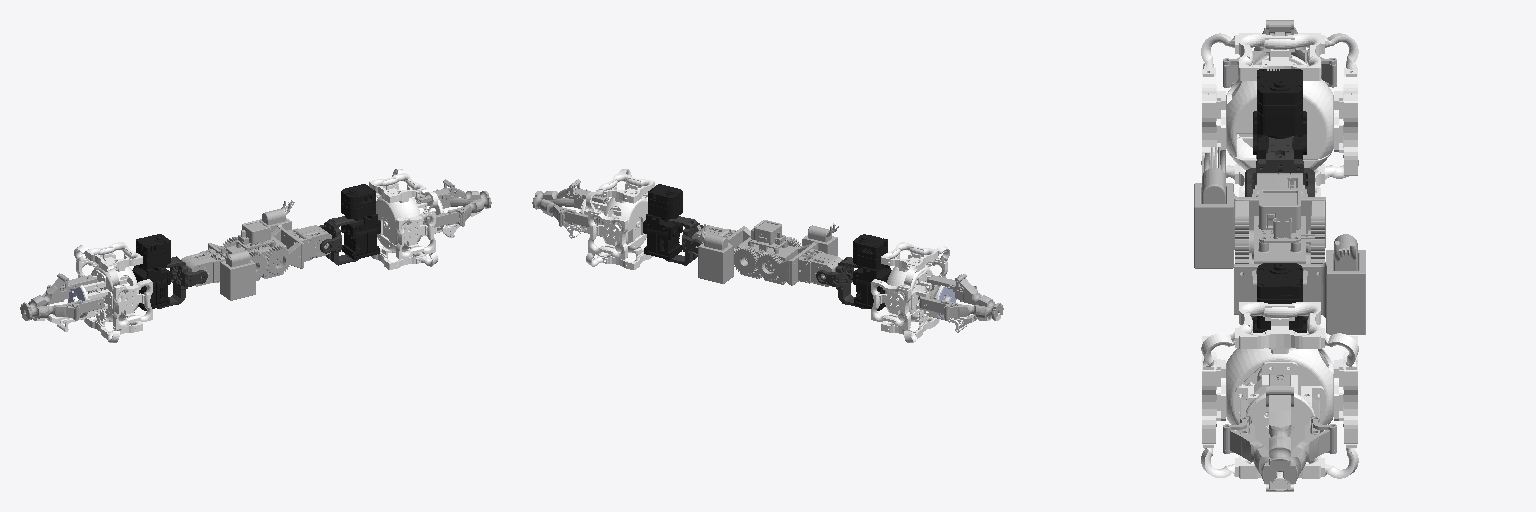
--- What the picture shows (computed from the rendered views, not written in the file) ---
Views: 3 orthographic renders of the robot side by side, from view 1: azimuth 30°, elevation 25°; view 2: azimuth 150°, elevation 25°; view 3: azimuth 270°, elevation 25°.
Model griphis_xacro_stl with 31 links and 30 joints (18 continuous, 12 fixed), rooted at base_link, posed every joint at zero.
Links seen in each view (by area): view 1: mid_pitch_2_link, mid_pitch_1_link, yaw_1_link, yaw_2_link, roll_1_link, roll_2_link, nailring2-cp2, nailring1-cp4, base_link, pitch_2_link, nail4_2_link, nailring2-cp1 (+6 smaller); view 2: mid_pitch_2_link, mid_pitch_1_link, yaw_1_link, yaw_2_link, roll_1_link, base_link, roll_2_link, nailring1-cp2, nailring2-cp4, pitch_2_link, nail2_2_link, nailring2-cp1 (+6 smaller); view 3: mid_pitch_2_link, roll_2_link, mid_pitch_1_link, roll_1_link, yaw_2_link, base_link, nailring1-cp1, nailring2-cp1, yaw_1_link, nail3_1_link, nailring2-cp4, pitch_2_link (+10 smaller).
Link boxes in pixels (<box>): mid_pitch_2_link: <box>181,237,267,300</box>; mid_pitch_1_link: <box>260,200,331,274</box>; yaw_1_link: <box>341,184,380,259</box>; yaw_2_link: <box>132,234,170,310</box>; roll_1_link: <box>376,169,437,266</box>; roll_2_link: <box>74,245,138,342</box>; nailring2-cp2: <box>113,279,152,328</box>; nailring1-cp4: <box>396,213,435,259</box>; base_link: <box>226,220,286,280</box>; pitch_2_link: <box>157,256,207,308</box>; nail4_2_link: <box>26,296,104,320</box>; nailring2-cp1: <box>86,242,142,271</box>; mid_pitch_2_link: <box>756,223,842,286</box>; mid_pitch_1_link: <box>692,224,758,283</box>; yaw_1_link: <box>643,184,682,259</box>; yaw_2_link: <box>853,234,891,310</box>; roll_1_link: <box>586,169,647,266</box>; base_link: <box>737,220,797,284</box>; roll_2_link: <box>885,245,949,342</box>; nailring1-cp2: <box>588,213,627,259</box>; nailring2-cp4: <box>871,279,910,328</box>; pitch_2_link: <box>816,257,867,308</box>; nail2_2_link: <box>919,294,997,320</box>; nailring2-cp1: <box>881,242,937,271</box>; mid_pitch_2_link: <box>1194,147,1325,268</box>; roll_2_link: <box>1201,33,1358,183</box>; mid_pitch_1_link: <box>1234,234,1365,334</box>; roll_1_link: <box>1201,328,1358,478</box>; yaw_2_link: <box>1253,69,1306,171</box>; base_link: <box>1254,189,1314,263</box>; nailring1-cp1: <box>1239,302,1320,353</box>; nailring2-cp1: <box>1239,33,1320,80</box>; yaw_1_link: <box>1253,263,1306,332</box>; nail3_1_link: <box>1266,374,1293,471</box>; nailring2-cp4: <box>1334,68,1357,175</box>; pitch_2_link: <box>1245,136,1314,196</box>.
Bounding box of the posed robot: 0.5796 × 0.096 × 0.0954 m (x, y, z).
Meshes: 31 distinct files referenced, 31 mesh visuals loaded (31 binary STL).

The robot description file, URDF, robot "griphis_xacro_stl":
<?xml version="1.0" encoding="utf-8"?>
<!-- This URDF was automatically created by SolidWorks to URDF Exporter! Originally created by Stephen Brawner ([email redacted]) 
     Commit Version:   Build Version: 1.6.9305.33219
     For more information, please see http://wiki.ros.org/sw_urdf_exporter -->
<robot
  name="griphis_xacro_stl">
  <link
    name="base_link">
    <inertial>
      <origin
        xyz="-0.00010264257406678 3.31727350517397E-05 -0.00495518296571391"
        rpy="0 0 0" />
      <mass
        value="0.0797462541060097" />
      <inertia
        ixx="8.57012114371153E-06"
        ixy="1.08293491537705E-08"
        ixz="-5.94275788505759E-09"
        iyy="1.05158543807875E-05"
        iyz="1.10583333432373E-08"
        izz="1.08869595154247E-05" />
    </inertial>
    <visual>
      <origin
        xyz="0 0 0"
        rpy="0 0 0" />
      <geometry>
        <mesh
          filename="package://griphis_xacro_stl/meshes/base_link.STL" />
      </geometry>
      <material
        name="">
        <color
          rgba="0.752941176470588 0.752941176470588 0.752941176470588 1" />
      </material>
    </visual>
    <collision>
      <origin
        xyz="0 0 0"
        rpy="0 0 0" />
      <geometry>
        <mesh
          filename="package://griphis_xacro_stl/meshes/base_link.STL" />
      </geometry>
    </collision>
  </link>
  <link
    name="mid_pitch_1_link">
    <inertial>
      <origin
        xyz="0.0327517154872403 0.0322634011493343 0.000309410745622088"
        rpy="0 0 0" />
      <mass
        value="0.0769353285466722" />
      <inertia
        ixx="1.72122749770761E-05"
        ixy="1.01496940835006E-08"
        ixz="-9.64331189423188E-08"
        iyy="1.36641198773196E-05"
        iyz="5.60814889063421E-07"
        izz="1.63211688368785E-05" />
    </inertial>
    <visual>
      <origin
        xyz="0 0 0"
        rpy="0 0 0" />
      <geometry>
        <mesh
          filename="package://griphis_xacro_stl/meshes/mid_pitch_1_link.STL" />
      </geometry>
      <material
        name="">
        <color
          rgba="0.752941176470588 0.752941176470588 0.752941176470588 1" />
      </material>
    </visual>
    <collision>
      <origin
        xyz="0 0 0"
        rpy="0 0 0" />
      <geometry>
        <mesh
          filename="package://griphis_xacro_stl/meshes/mid_pitch_1_link.STL" />
      </geometry>
    </collision>
  </link>
  <joint
    name="mid_pitch_1"
    type="continuous">
    <origin
      xyz="0.0148999999999995 -0.0176000000000318 -0.0109999999999849"
      rpy="0 0 0" />
    <parent
      link="base_link" />
    <child
      link="mid_pitch_1_link" />
    <axis
      xyz="0 1 0" />
    <limit
      effort="3"
      velocity="10" />
  </joint>
  <link
    name="pitch_1_link">
    <inertial>
      <origin
        xyz="0.0191893034316777 -0.017231596070573 -0.00342856576321433"
        rpy="0 0 0" />
      <mass
        value="0.0105178263834885" />
      <inertia
        ixx="5.84801171286377E-07"
        ixy="3.57321505354626E-09"
        ixz="8.8152444778668E-08"
        iyy="1.04603360596441E-06"
        iyz="-1.51990885783075E-13"
        izz="9.82964870358909E-07" />
    </inertial>
    <visual>
      <origin
        xyz="0 0 0"
        rpy="0 0 0" />
      <geometry>
        <mesh
          filename="package://griphis_xacro_stl/meshes/pitch_1_link.STL" />
      </geometry>
      <material
        name="">
        <color
          rgba="0.298039215686275 0.298039215686275 0.298039215686275 1" />
      </material>
    </visual>
    <collision>
      <origin
        xyz="0 0 0"
        rpy="0 0 0" />
      <geometry>
        <mesh
          filename="package://griphis_xacro_stl/meshes/pitch_1_link.STL" />
      </geometry>
    </collision>
  </link>
  <joint
    name="pitch_1"
    type="continuous">
    <origin
      xyz="0.0640000000000069 0.0350999999999983 0"
      rpy="0 0 0" />
    <parent
      link="mid_pitch_1_link" />
    <child
      link="pitch_1_link" />
    <axis
      xyz="0 1 0" />
    <limit
      effort="3"
      velocity="10" />
  </joint>
  <link
    name="yaw_1_link">
    <inertial>
      <origin
        xyz="0.00934924439107056 -1.17000596711048E-10 -0.0065657034112081"
        rpy="0 0 0" />
      <mass
        value="0.0544535701857151" />
      <inertia
        ixx="6.16082295678474E-06"
        ixy="-1.48642619322733E-08"
        ixz="3.66332313625793E-08"
        iyy="7.36782974228272E-06"
        iyz="-1.48634431569832E-08"
        izz="7.24406343523596E-06" />
    </inertial>
    <visual>
      <origin
        xyz="0 0 0"
        rpy="0 0 0" />
      <geometry>
        <mesh
          filename="package://griphis_xacro_stl/meshes/yaw_1_link.STL" />
      </geometry>
      <material
        name="">
        <color
          rgba="0.180392156862745 0.180392156862745 0.180392156862745 1" />
      </material>
    </visual>
    <collision>
      <origin
        xyz="0 0 0"
        rpy="0 0 0" />
      <geometry>
        <mesh
          filename="package://griphis_xacro_stl/meshes/yaw_1_link.STL" />
      </geometry>
    </collision>
  </link>
  <joint
    name="yaw_1"
    type="continuous">
    <origin
      xyz="0.0420000000000015 -0.0175000000000007 0.0174999999999981"
      rpy="0 0 0" />
    <parent
      link="pitch_1_link" />
    <child
      link="yaw_1_link" />
    <axis
      xyz="0 0 -1" />
    <limit
      effort="3"
      velocity="10" />
  </joint>
  <link
    name="roll_1_link">
    <inertial>
      <origin
        xyz="0.0304847934275313 -0.000533683595524997 -0.000138763582684304"
        rpy="0 0 0" />
      <mass
        value="0.0617238803473503" />
      <inertia
        ixx="1.72112591146286E-05"
        ixy="-2.34655399562005E-07"
        ixz="1.72186999812855E-07"
        iyy="1.09105230206178E-05"
        iyz="3.90599560040266E-08"
        izz="1.62402505711448E-05" />
    </inertial>
    <visual>
      <origin
        xyz="0 0 0"
        rpy="0 0 0" />
      <geometry>
        <mesh
          filename="package://griphis_xacro_stl/meshes/roll_1_link.STL" />
      </geometry>
      <material
        name="">
        <color
          rgba="1 1 1 1" />
      </material>
    </visual>
    <collision>
      <origin
        xyz="0 0 0"
        rpy="0 0 0" />
      <geometry>
        <mesh
          filename="package://griphis_xacro_stl/meshes/roll_1_link.STL" />
      </geometry>
    </collision>
  </link>
  <joint
    name="roll_1"
    type="continuous">
    <origin
      xyz="0.0279999999999981 0 -0.0175000000000002"
      rpy="0 0 0" />
    <parent
      link="yaw_1_link" />
    <child
      link="roll_1_link" />
    <axis
      xyz="-1 0 0" />
    <limit
      effort="3"
      velocity="10" />
  </joint>
  <link
    name="worm_1_link">
    <inertial>
      <origin
        xyz="0.00680389923417661 1.29536242400655E-05 5.52986221441856E-05"
        rpy="0 0 0" />
      <mass
        value="0.00387257618784269" />
      <inertia
        ixx="2.06264558567859E-07"
        ixy="1.13917098659222E-09"
        ixz="-8.28881114232565E-10"
        iyy="1.7113732321225E-07"
        iyz="4.18404893657738E-11"
        izz="1.71297030362022E-07" />
    </inertial>
    <visual>
      <origin
        xyz="0 0 0"
        rpy="0 0 0" />
      <geometry>
        <mesh
          filename="package://griphis_xacro_stl/meshes/worm_1_link.STL" />
      </geometry>
      <material
        name="">
        <color
          rgba="0.752941176470588 0.752941176470588 0.752941176470588 1" />
      </material>
    </visual>
    <collision>
      <origin
        xyz="0 0 0"
        rpy="0 0 0" />
      <geometry>
        <mesh
          filename="package://griphis_xacro_stl/meshes/worm_1_link.STL" />
      </geometry>
    </collision>
  </link>
  <joint
    name="worm_rotate_1"
    type="continuous">
    <origin
      xyz="0.0469999999999999 0 0"
      rpy="0 0 0" />
    <parent
      link="roll_1_link" />
    <child
      link="worm_1_link" />
    <axis
      xyz="1 0 0" />
    <limit
      effort="15"
      velocity="10" />
  </joint>
  <link
    name="nail1_1_link">
    <inertial>
      <origin
        xyz="0.0375115559402243 -4.52381021421033E-05 0.000927613439051046"
        rpy="0 0 0" />
      <mass
        value="0.00785451508753953" />
      <inertia
        ixx="3.26792929870295E-07"
        ixy="2.23311778369799E-10"
        ixz="3.04391588566406E-07"
        iyy="1.76174668735888E-06"
        iyz="-8.7203716693621E-12"
        izz="1.60467609944965E-06" />
    </inertial>
    <visual>
      <origin
        xyz="0 0 0"
        rpy="0 0 0" />
      <geometry>
        <mesh
          filename="package://griphis_xacro_stl/meshes/nail1_1_link.STL" />
      </geometry>
      <material
        name="">
        <color
          rgba="1 1 1 1" />
      </material>
    </visual>
    <collision>
      <origin
        xyz="0 0 0"
        rpy="0 0 0" />
      <geometry>
        <mesh
          filename="package://griphis_xacro_stl/meshes/nail1_1_link.STL" />
      </geometry>
    </collision>
  </link>
  <joint
    name="nail1_rotate_1"
    type="continuous">
    <origin
      xyz="0.0569999999999999 0 -0.0149999999999954"
      rpy="3.14159265358974 0 0" />
    <parent
      link="roll_1_link" />
    <child
      link="nail1_1_link" />
    <axis
      xyz="0 -1 0" />
    <mimic
      joint="worm_rotate_1"
      multiplier="0.091"
      offset="0" />
  </joint>
  <link
    name="nail2_1_link">
    <inertial>
      <origin
        xyz="0.0375922338704431 -0.000920668174592305 -5.01249966510589E-05"
        rpy="0 0 0" />
      <mass
        value="0.00783920613274618" />
      <inertia
        ixx="3.26764420600123E-07"
        ixy="-3.04083796030301E-07"
        ixz="3.01596352148099E-10"
        iyy="1.60307023285989E-06"
        iyz="-3.50228545349602E-11"
        izz="1.7600802033745E-06" />
    </inertial>
    <visual>
      <origin
        xyz="0 0 0"
        rpy="0 0 0" />
      <geometry>
        <mesh
          filename="package://griphis_xacro_stl/meshes/nail2_1_link.STL" />
      </geometry>
      <material
        name="">
        <color
          rgba="0.752941176470588 0.752941176470588 0.752941176470588 1" />
      </material>
    </visual>
    <collision>
      <origin
        xyz="0 0 0"
        rpy="0 0 0" />
      <geometry>
        <mesh
          filename="package://griphis_xacro_stl/meshes/nail2_1_link.STL" />
      </geometry>
    </collision>
  </link>
  <joint
    name="nail2_rotate_1"
    type="continuous">
    <origin
      xyz="0.0569999999999999 -0.0150000000000087 0"
      rpy="0 0 0" />
    <parent
      link="roll_1_link" />
    <child
      link="nail2_1_link" />
    <axis
      xyz="0 0 -1" />
    <mimic
      joint="worm_rotate_1"
      multiplier="0.091"
      offset="0" />
  </joint>
  <link
    name="nail3_1_link">
    <inertial>
      <origin
        xyz="0.0376633576375596 -4.50239708446043E-05 0.000912382199221681"
        rpy="0 0 0" />
      <mass
        value="0.00782164323980883" />
      <inertia
        ixx="3.26387568167113E-07"
        ixy="1.94469452026803E-10"
        ixz="3.03929104031752E-07"
        iyy="1.75640452707706E-06"
        iyz="-1.77166863072923E-11"
        izz="1.59916689354216E-06" />
    </inertial>
    <visual>
      <origin
        xyz="0 0 0"
        rpy="0 0 0" />
      <geometry>
        <mesh
          filename="package://griphis_xacro_stl/meshes/nail3_1_link.STL" />
      </geometry>
      <material
        name="">
        <color
          rgba="0.752941176470588 0.752941176470588 0.752941176470588 1" />
      </material>
    </visual>
    <collision>
      <origin
        xyz="0 0 0"
        rpy="0 0 0" />
      <geometry>
        <mesh
          filename="package://griphis_xacro_stl/meshes/nail3_1_link.STL" />
      </geometry>
    </collision>
  </link>
  <joint
    name="nail3_rotate_1"
    type="continuous">
    <origin
      xyz="0.0569999999999998 0 0.0150000000000046"
      rpy="0 0 0" />
    <parent
      link="roll_1_link" />
    <child
      link="nail3_1_link" />
    <axis
      xyz="0 -1 0" />
    <mimic
      joint="worm_rotate_1"
      multiplier="0.091"
      offset="0" />
  </joint>
  <link
    name="nail4_1_link">
    <inertial>
      <origin
        xyz="0.0376199045292883 0.000916237603659741 4.27065705779009E-05"
        rpy="0 0 0" />
      <mass
        value="0.00783130292561273" />
      <inertia
        ixx="3.26490723468266E-07"
        ixy="3.0398859313737E-07"
        ixz="-4.37077734142467E-10"
        iyy="1.60061195688429E-06"
        iyz="2.94387193060157E-11"
        izz="1.75778452318195E-06" />
    </inertial>
    <visual>
      <origin
        xyz="0 0 0"
        rpy="0 0 0" />
      <geometry>
        <mesh
          filename="package://griphis_xacro_stl/meshes/nail4_1_link.STL" />
      </geometry>
      <material
        name="">
        <color
          rgba="0.752941176470588 0.752941176470588 0.752941176470588 1" />
      </material>
    </visual>
    <collision>
      <origin
        xyz="0 0 0"
        rpy="0 0 0" />
      <geometry>
        <mesh
          filename="package://griphis_xacro_stl/meshes/nail4_1_link.STL" />
      </geometry>
    </collision>
  </link>
  <joint
    name="nail4_rotate_1"
    type="continuous">
    <origin
      xyz="0.0569999999999999 0.0149999999999913 0"
      rpy="0 0 0" />
    <parent
      link="roll_1_link" />
    <child
      link="nail4_1_link" />
    <axis
      xyz="0 0 1" />
    <mimic
      joint="worm_rotate_1"
      multiplier="0.091"
      offset="0" />
  </joint>
  <link
    name="nail-cp1">
    <inertial>
      <origin
        xyz="-2.058274506931E-05 -0.000405813357968389 -0.0658092329631552"
        rpy="0 0 0" />
      <mass
        value="0.0011585387013778" />
      <inertia
        ixx="1.05682260080874E-07"
        ixy="-1.5764583148915E-09"
        ixz="-7.53303890952621E-11"
        iyy="1.05682260080874E-07"
        iyz="7.53303890952626E-11"
        izz="2.1081276337663E-07" />
    </inertial>
    <visual>
      <origin
        xyz="0 0 0"
        rpy="0 0 0" />
      <geometry>
        <mesh
          filename="package://griphis_xacro_stl/meshes/nail-cp1.STL" />
      </geometry>
      <material
        name="">
        <color
          rgba="1 1 1 1" />
      </material>
    </visual>
    <collision>
      <origin
        xyz="0 0 0"
        rpy="0 0 0" />
      <geometry>
        <mesh
          filename="package://griphis_xacro_stl/meshes/nail-cp1.STL" />
      </geometry>
    </collision>
  </link>
  <joint
    name="nail-cp1"
    type="fixed">
    <origin
      xyz="0.1417 -0.000318198051508053 -0.000108198051533566"
      rpy="-1.57079632679489 0 -1.5707963267949" />
    <parent
      link="roll_1_link" />
    <child
      link="nail-cp1" />
    <axis
      xyz="0 0 0" />
  </joint>
  <link
    name="gripper-cp1">
    <inertial>
      <origin
        xyz="-0.000249014516100668 -0.00102239026541428 -0.0133818116212472"
        rpy="0 0 0" />
      <mass
        value="0.0105278029927928" />
      <inertia
        ixx="2.49426973639437E-06"
        ixy="-4.53009756265879E-08"
        ixz="6.75736959711176E-08"
        iyy="2.70040122944883E-06"
        iyz="-2.88247256637324E-07"
        izz="2.67368335360225E-06" />
    </inertial>
    <visual>
      <origin
        xyz="0 0 0"
        rpy="0 0 0" />
      <geometry>
        <mesh
          filename="package://griphis_xacro_stl/meshes/gripper-cp1.STL" />
      </geometry>
      <material
        name="">
        <color
          rgba="1 1 1 1" />
      </material>
    </visual>
    <collision>
      <origin
        xyz="0 0 0"
        rpy="0 0 0" />
      <geometry>
        <mesh
          filename="package://griphis_xacro_stl/meshes/gripper-cp1.STL" />
      </geometry>
    </collision>
  </link>
  <joint
    name="gripper-cp1"
    type="fixed">
    <origin
      xyz="0.0766999999999999 0.000318198051526754 -0.000318198051528329"
      rpy="-1.57079632679489 0 -1.5707963267949" />
    <parent
      link="roll_1_link" />
    <child
      link="gripper-cp1" />
    <axis
      xyz="0 0 0" />
  </joint>
  <link
    name="nailring1-cp1">
    <inertial>
      <origin
        xyz="0.000495209639942942 -2.15213012098869E-07 -0.00500225533856013"
        rpy="0 0 0" />
      <mass
        value="0.00888435164177016" />
      <inertia
        ixx="1.85848970375133E-06"
        ixy="4.08320407087235E-11"
        ixz="9.14133574374128E-10"
        iyy="1.88948158451332E-06"
        iyz="-1.8157617423749E-12"
        izz="3.47494887160992E-06" />
    </inertial>
    <visual>
      <origin
        xyz="0 0 0"
        rpy="0 0 0" />
      <geometry>
        <mesh
          filename="package://griphis_xacro_stl/meshes/nailring1-cp1.STL" />
      </geometry>
      <material
        name="">
        <color
          rgba="1 1 1 1" />
      </material>
    </visual>
    <collision>
      <origin
        xyz="0 0 0"
        rpy="0 0 0" />
      <geometry>
        <mesh
          filename="package://griphis_xacro_stl/meshes/nailring1-cp1.STL" />
      </geometry>
    </collision>
  </link>
  <joint
    name="nailring1-cp1"
    type="fixed">
    <origin
      xyz="0.0285999465033277 0 0.0330000000000045"
      rpy="3.14159265358974 0 0" />
    <parent
      link="roll_1_link" />
    <child
      link="nailring1-cp1" />
    <axis
      xyz="0 0 0" />
  </joint>
  <link
    name="nailring1-cp2">
    <inertial>
      <origin
        xyz="0.000495209639943192 -2.15213011856008E-07 -0.00500225533855998"
        rpy="0 0 0" />
      <mass
        value="0.00888435164177017" />
      <inertia
        ixx="1.85848970375133E-06"
        ixy="4.08320407083519E-11"
        ixz="9.1413357437371E-10"
        iyy="1.88948158451332E-06"
        iyz="-1.81576174254404E-12"
        izz="3.47494887160992E-06" />
    </inertial>
    <visual>
      <origin
        xyz="0 0 0"
        rpy="0 0 0" />
      <geometry>
        <mesh
          filename="package://griphis_xacro_stl/meshes/nailring1-cp2.STL" />
      </geometry>
      <material
        name="">
        <color
          rgba="1 1 1 1" />
      </material>
    </visual>
    <collision>
      <origin
        xyz="0 0 0"
        rpy="0 0 0" />
      <geometry>
        <mesh
          filename="package://griphis_xacro_stl/meshes/nailring1-cp2.STL" />
      </geometry>
    </collision>
  </link>
  <joint
    name="nailring1-cp2"
    type="fixed">
    <origin
      xyz="0.0285999465033275 0.0329999999999915 0"
      rpy="1.57079632679484 0 0" />
    <parent
      link="roll_1_link" />
    <child
      link="nailring1-cp2" />
    <axis
      xyz="0 0 0" />
  </joint>
  <link
    name="nailring1-cp3">
    <inertial>
      <origin
        xyz="-0.000495209639943185 2.1521301184213E-07 -0.00500225533856018"
        rpy="0 0 0" />
      <mass
        value="0.00888435164177015" />
      <inertia
        ixx="1.85848970375133E-06"
        ixy="4.08320407089207E-11"
        ixz="-9.14133574373382E-10"
        iyy="1.88948158451332E-06"
        iyz="1.81576174213503E-12"
        izz="3.47494887160991E-06" />
    </inertial>
    <visual>
      <origin
        xyz="0 0 0"
        rpy="0 0 0" />
      <geometry>
        <mesh
          filename="package://griphis_xacro_stl/meshes/nailring1-cp3.STL" />
      </geometry>
      <material
        name="">
        <color
          rgba="1 1 1 1" />
      </material>
    </visual>
    <collision>
      <origin
        xyz="0 0 0"
        rpy="0 0 0" />
      <geometry>
        <mesh
          filename="package://griphis_xacro_stl/meshes/nailring1-cp3.STL" />
      </geometry>
    </collision>
  </link>
  <joint
    name="nailring1-cp3"
    type="fixed">
    <origin
      xyz="0.0284000534966723 0 -0.0329999999999963"
      rpy="0 0 0" />
    <parent
      link="roll_1_link" />
    <child
      link="nailring1-cp3" />
    <axis
      xyz="0 0 0" />
  </joint>
  <link
    name="nailring1-cp4">
    <inertial>
      <origin
        xyz="-0.000495209639943033 2.15213012022542E-07 -0.00500225533856014"
        rpy="0 0 0" />
      <mass
        value="0.00888435164177017" />
      <inertia
        ixx="1.85848970375133E-06"
        ixy="4.08320407090649E-11"
        ixz="-9.14133574373576E-10"
        iyy="1.88948158451332E-06"
        iyz="1.81576174274984E-12"
        izz="3.47494887160992E-06" />
    </inertial>
    <visual>
      <origin
        xyz="0 0 0"
        rpy="0 0 0" />
      <geometry>
        <mesh
          filename="package://griphis_xacro_stl/meshes/nailring1-cp4.STL" />
      </geometry>
      <material
        name="">
        <color
          rgba="1 1 1 1" />
      </material>
    </visual>
    <collision>
      <origin
        xyz="0 0 0"
        rpy="0 0 0" />
      <geometry>
        <mesh
          filename="package://griphis_xacro_stl/meshes/nailring1-cp4.STL" />
      </geometry>
    </collision>
  </link>
  <joint
    name="nailring1-cp4"
    type="fixed">
    <origin
      xyz="0.0286000534966721 -0.0330000000000086 0"
      rpy="-1.57079632679496 0 0" />
    <parent
      link="roll_1_link" />
    <child
      link="nailring1-cp4" />
    <axis
      xyz="0 0 0" />
  </joint>
  <link
    name="mid_pitch_2_link">
    <inertial>
      <origin
        xyz="-0.0327473641033502 -0.0322605669359661 0.000309352298986196"
        rpy="0 0 0" />
      <mass
        value="0.0769502016363242" />
      <inertia
        ixx="1.72130959551283E-05"
        ixy="1.01485711646082E-08"
        ixz="9.64338520342348E-08"
        iyy="1.36643051799986E-05"
        iyz="-5.60812725052765E-07"
        izz="1.63206675803235E-05" />
    </inertial>
    <visual>
      <origin
        xyz="0 0 0"
        rpy="0 0 0" />
      <geometry>
        <mesh
          filename="package://griphis_xacro_stl/meshes/mid_pitch_2_link.STL" />
      </geometry>
      <material
        name="">
        <color
          rgba="0.752941176470588 0.752941176470588 0.752941176470588 1" />
      </material>
    </visual>
    <collision>
      <origin
        xyz="0 0 0"
        rpy="0 0 0" />
      <geometry>
        <mesh
          filename="package://griphis_xacro_stl/meshes/mid_pitch_2_link.STL" />
      </geometry>
    </collision>
  </link>
  <joint
    name="mid_pitch_2"
    type="continuous">
    <origin
      xyz="-0.0150000000000005 0.0175999999999683 -0.0107899999999814"
      rpy="0 0 0" />
    <parent
      link="base_link" />
    <child
      link="mid_pitch_2_link" />
    <axis
      xyz="0 -1 0" />
    <limit
      effort="3"
      velocity="10" />
    <mimic
      joint="mid_pitch_1"
      multiplier="1"
      offset="0" />
  </joint>
  <link
    name="pitch_2_link">
    <inertial>
      <origin
        xyz="-0.0191893034316743 0.0172315960705706 -0.00342856576323701"
        rpy="0 0 0" />
      <mass
        value="0.0105178263834885" />
      <inertia
        ixx="5.84801171286379E-07"
        ixy="3.57321505353334E-09"
        ixz="-8.81524447786701E-08"
        iyy="1.04603360596441E-06"
        iyz="1.51990880905164E-13"
        izz="9.82964870358905E-07" />
    </inertial>
    <visual>
      <origin
        xyz="0 0 0"
        rpy="0 0 0" />
      <geometry>
        <mesh
          filename="package://griphis_xacro_stl/meshes/pitch_2_link.STL" />
      </geometry>
      <material
        name="">
        <color
          rgba="0.298039215686275 0.298039215686275 0.298039215686275 1" />
      </material>
    </visual>
    <collision>
      <origin
        xyz="0 0 0"
        rpy="0 0 0" />
      <geometry>
        <mesh
          filename="package://griphis_xacro_stl/meshes/pitch_2_link.STL" />
      </geometry>
    </collision>
  </link>
  <joint
    name="pitch_2"
    type="continuous">
    <origin
      xyz="-0.0640000000000067 -0.0350999999999972 0"
      rpy="0 0 0" />
    <parent
      link="mid_pitch_2_link" />
    <child
      link="pitch_2_link" />
    <axis
      xyz="0 1 0" />
    <limit
      effort="3"
      velocity="10" />
  </joint>
  <link
    name="yaw_2_link">
    <inertial>
      <origin
        xyz="-0.00934924449476787 -1.20738749553873E-09 -0.00656570463247875"
        rpy="0 0 0" />
      <mass
        value="0.0544536529144548" />
      <inertia
        ixx="6.1608306877813E-06"
        ixy="-1.48630786812854E-08"
        ixz="-3.66333645918454E-08"
        iyy="7.36783210634451E-06"
        iyz="1.48635489875795E-08"
        izz="7.24407314817233E-06" />
    </inertial>
    <visual>
      <origin
        xyz="0 0 0"
        rpy="0 0 0" />
      <geometry>
        <mesh
          filename="package://griphis_xacro_stl/meshes/yaw_2_link.STL" />
      </geometry>
      <material
        name="">
        <color
          rgba="0.180392156862745 0.180392156862745 0.180392156862745 1" />
      </material>
    </visual>
    <collision>
      <origin
        xyz="0 0 0"
        rpy="0 0 0" />
      <geometry>
        <mesh
          filename="package://griphis_xacro_stl/meshes/yaw_2_link.STL" />
      </geometry>
    </collision>
  </link>
  <joint
    name="yaw_2"
    type="continuous">
    <origin
      xyz="-0.0419999999999942 0.0175000000000631 0.0174999999999867"
      rpy="0 0 0" />
    <parent
      link="pitch_2_link" />
    <child
      link="yaw_2_link" />
    <axis
      xyz="0 0 -1" />
    <limit
      effort="3"
      velocity="10" />
  </joint>
  <link
    name="roll_2_link">
    <inertial>
      <origin
        xyz="-0.0304847934275298 0.000533683595516123 -0.000138763582688578"
        rpy="0 0 0" />
      <mass
        value="0.0617238803473503" />
      <inertia
        ixx="1.72112591146286E-05"
        ixy="-2.34655399562003E-07"
        ixz="-1.72186999812873E-07"
        iyy="1.09105230206178E-05"
        iyz="-3.90599560037894E-08"
        izz="1.62402505711448E-05" />
    </inertial>
    <visual>
      <origin
        xyz="0 0 0"
        rpy="0 0 0" />
      <geometry>
        <mesh
          filename="package://griphis_xacro_stl/meshes/roll_2_link.STL" />
      </geometry>
      <material
        name="">
        <color
          rgba="1 1 1 1" />
      </material>
    </visual>
    <collision>
      <origin
        xyz="0 0 0"
        rpy="0 0 0" />
      <geometry>
        <mesh
          filename="package://griphis_xacro_stl/meshes/roll_2_link.STL" />
      </geometry>
    </collision>
  </link>
  <joint
    name="roll_2"
    type="continuous">
    <origin
      xyz="-0.0280000000000042 0 -0.0175000000000007"
      rpy="0 0 0" />
    <parent
      link="yaw_2_link" />
    <child
      link="roll_2_link" />
    <axis
      xyz="-1 0 0" />
    <limit
      effort="3"
      velocity="10" />
  </joint>
  <link
    name="worm_2_link">
    <inertial>
      <origin
        xyz="-0.00680389920380498 5.66707617536341E-05 3.76180533663562E-06"
        rpy="0 0 0" />
      <mass
        value="0.00387257616321651" />
      <inertia
        ixx="2.0626455720602E-07"
        ixy="6.3200237698076E-10"
        ixz="-1.25909856906162E-09"
        iyy="1.713062458146E-07"
        iyz="1.39152999506885E-11"
        izz="1.71128105557195E-07" />
    </inertial>
    <visual>
      <origin
        xyz="0 0 0"
        rpy="0 0 0" />
      <geometry>
        <mesh
          filename="package://griphis_xacro_stl/meshes/worm_2_link.STL" />
      </geometry>
      <material
        name="">
        <color
          rgba="0.752941176470588 0.752941176470588 0.752941176470588 1" />
      </material>
    </visual>
    <collision>
      <origin
        xyz="0 0 0"
        rpy="0 0 0" />
      <geometry>
        <mesh
          filename="package://griphis_xacro_stl/meshes/worm_2_link.STL" />
      </geometry>
    </collision>
  </link>
  <joint
    name="worm_rotate_2"
    type="continuous">
    <origin
      xyz="-0.0470000000000015 0 0"
      rpy="0 0 0" />
    <parent
      link="roll_2_link" />
    <child
      link="worm_2_link" />
    <axis
      xyz="0.737216674660088 0 0.675656402769279" />
    <limit
      effort="15"
      velocity="10" />
  </joint>
  <link
    name="nail1_2_link">
    <inertial>
      <origin
        xyz="-0.0375115559402153 0.000154761897861344 -0.000927613439127735"
        rpy="0 0 0" />
      <mass
        value="0.00785451508753956" />
      <inertia
        ixx="3.26792929870324E-07"
        ixy="-2.23311778394515E-10"
        ixz="3.04391588566463E-07"
        iyy="1.76174668735889E-06"
        iyz="8.72037168507631E-12"
        izz="1.60467609944963E-06" />
    </inertial>
    <visual>
      <origin
        xyz="0 0 0"
        rpy="0 0 0" />
      <geometry>
        <mesh
          filename="package://griphis_xacro_stl/meshes/nail1_2_link.STL" />
      </geometry>
      <material
        name="">
        <color
          rgba="1 1 1 1" />
      </material>
    </visual>
    <collision>
      <origin
        xyz="0 0 0"
        rpy="0 0 0" />
      <geometry>
        <mesh
          filename="package://griphis_xacro_stl/meshes/nail1_2_link.STL" />
      </geometry>
    </collision>
  </link>
  <joint
    name="nail1_rotate_2"
    type="continuous">
    <origin
      xyz="-0.0570000000000014 0 -0.0149999999999872"
      rpy="0 0 0" />
    <parent
      link="roll_2_link" />
    <child
      link="nail1_2_link" />
    <axis
      xyz="0 -1 0" />
    <mimic
      joint="worm_rotate_2"
      multiplier="0.091"
      offset="0" />
  </joint>
  <link
    name="nail2_2_link">
    <inertial>
      <origin
        xyz="-0.0375922338704413 0.000920668174601659 0.000149875003347476"
        rpy="0 0 0" />
      <mass
        value="0.00783920613274653" />
      <inertia
        ixx="3.26764420600132E-07"
        ixy="-3.0408379603033E-07"
        ixz="-3.01596352109658E-10"
        iyy="1.60307023286001E-06"
        iyz="3.50228545423785E-11"
        izz="1.76008020337463E-06" />
    </inertial>
    <visual>
      <origin
        xyz="0 0 0"
        rpy="0 0 0" />
      <geometry>
        <mesh
          filename="package://griphis_xacro_stl/meshes/nail2_2_link.STL" />
      </geometry>
      <material
        name="">
        <color
          rgba="0.752941176470588 0.752941176470588 0.752941176470588 1" />
      </material>
    </visual>
    <collision>
      <origin
        xyz="0 0 0"
        rpy="0 0 0" />
      <geometry>
        <mesh
          filename="package://griphis_xacro_stl/meshes/nail2_2_link.STL" />
      </geometry>
    </collision>
  </link>
  <joint
    name="nail2_rotate_2"
    type="continuous">
    <origin
      xyz="-0.0570000000000009 0.015 0"
      rpy="0 0 0" />
    <parent
      link="roll_2_link" />
    <child
      link="nail2_2_link" />
    <axis
      xyz="0 0 -1" />
    <mimic
      joint="worm_rotate_2"
      multiplier="0.091"
      offset="0" />
  </joint>
  <link
    name="nail3_2_link">
    <inertial>
      <origin
        xyz="-0.0376633576375554 4.50239708458949E-05 0.000912382199144402"
        rpy="0 0 0" />
      <mass
        value="0.00782164323980893" />
      <inertia
        ixx="3.26387568167086E-07"
        ixy="1.94469452048084E-10"
        ixz="-3.03929104031706E-07"
        iyy="1.75640452707709E-06"
        iyz="1.77166863189614E-11"
        izz="1.59916689354222E-06" />
    </inertial>
    <visual>
      <origin
        xyz="0 0 0"
        rpy="0 0 0" />
      <geometry>
        <mesh
          filename="package://griphis_xacro_stl/meshes/nail3_2_link.STL" />
      </geometry>
      <material
        name="">
        <color
          rgba="0.752941176470588 0.752941176470588 0.752941176470588 1" />
      </material>
    </visual>
    <collision>
      <origin
        xyz="0 0 0"
        rpy="0 0 0" />
      <geometry>
        <mesh
          filename="package://griphis_xacro_stl/meshes/nail3_2_link.STL" />
      </geometry>
    </collision>
  </link>
  <joint
    name="nail3_rotate_2"
    type="continuous">
    <origin
      xyz="-0.0570000000000004 0 0.0150000000000128"
      rpy="0 0 0" />
    <parent
      link="roll_2_link" />
    <child
      link="nail3_2_link" />
    <axis
      xyz="0 1 0" />
    <mimic
      joint="worm_rotate_2"
      multiplier="0.091"
      offset="0" />
  </joint>
  <link
    name="nail4_2_link">
    <inertial>
      <origin
        xyz="-0.0376199045292857 -0.000916237603655147 -0.000157293429422369"
        rpy="0 0 0" />
      <mass
        value="0.00783130292561298" />
      <inertia
        ixx="3.26490723468276E-07"
        ixy="3.03988593137378E-07"
        ixz="4.37077734057104E-10"
        iyy="1.60061195688436E-06"
        iyz="-2.94387192594929E-11"
        izz="1.75778452318202E-06" />
    </inertial>
    <visual>
      <origin
        xyz="0 0 0"
        rpy="0 0 0" />
      <geometry>
        <mesh
          filename="package://griphis_xacro_stl/meshes/nail4_2_link.STL" />
      </geometry>
      <material
        name="">
        <color
          rgba="0.752941176470588 0.752941176470588 0.752941176470588 1" />
      </material>
    </visual>
    <collision>
      <origin
        xyz="0 0 0"
        rpy="0 0 0" />
      <geometry>
        <mesh
          filename="package://griphis_xacro_stl/meshes/nail4_2_link.STL" />
      </geometry>
    </collision>
  </link>
  <joint
    name="nail4_rotate_2"
    type="continuous">
    <origin
      xyz="-0.0570000000000017 -0.0149999999999955 0"
      rpy="0 0 0" />
    <parent
      link="roll_2_link" />
    <child
      link="nail4_2_link" />
    <axis
      xyz="0 0 1" />
    <mimic
      joint="worm_rotate_2"
      multiplier="0.091"
      offset="0" />
  </joint>
  <link
    name="nail-cp2">
    <inertial>
      <origin
        xyz="0.000615813357965365 -0.00061581335794697 -0.0658092329631574"
        rpy="0 0 0" />
      <mass
        value="0.00115853870137781" />
      <inertia
        ixx="1.05682260080874E-07"
        ixy="-1.5764583148907E-09"
        ixz="-7.53303890952508E-11"
        iyy="1.05682260080874E-07"
        iyz="7.53303890920378E-11"
        izz="2.10812763376632E-07" />
    </inertial>
    <visual>
      <origin
        xyz="0 0 0"
        rpy="0 0 0" />
      <geometry>
        <mesh
          filename="package://griphis_xacro_stl/meshes/nail-cp2.STL" />
      </geometry>
      <material
        name="">
        <color
          rgba="0.796078431372549 0.823529411764706 0.937254901960784 1" />
      </material>
    </visual>
    <collision>
      <origin
        xyz="0 0 0"
        rpy="0 0 0" />
      <geometry>
        <mesh
          filename="package://griphis_xacro_stl/meshes/nail-cp2.STL" />
      </geometry>
    </collision>
  </link>
  <joint
    name="nail-cp2"
    type="fixed">
    <origin
      xyz="-0.141700000000001 -0.000318198051535531 -0.00031819805151536"
      rpy="-1.5707963267949 0 1.5707963267949" />
    <parent
      link="roll_2_link" />
    <child
      link="nail-cp2" />
    <axis
      xyz="0 0 0" />
  </joint>
  <link
    name="gripper-cp2">
    <inertial>
      <origin
        xyz="0.000249014516096963 -0.00102239026539895 0.0133818116212488"
        rpy="0 0 0" />
      <mass
        value="0.0105278029927927" />
      <inertia
        ixx="2.49426973639434E-06"
        ixy="4.53009756265701E-08"
        ixz="6.75736959710746E-08"
        iyy="2.70040122944888E-06"
        iyz="2.88247256637327E-07"
        izz="2.67368335360219E-06" />
    </inertial>
    <visual>
      <origin
        xyz="0 0 0"
        rpy="0 0 0" />
      <geometry>
        <mesh
          filename="package://griphis_xacro_stl/meshes/gripper-cp2.STL" />
      </geometry>
      <material
        name="">
        <color
          rgba="1 1 1 1" />
      </material>
    </visual>
    <collision>
      <origin
        xyz="0 0 0"
        rpy="0 0 0" />
      <geometry>
        <mesh
          filename="package://griphis_xacro_stl/meshes/gripper-cp2.STL" />
      </geometry>
    </collision>
  </link>
  <joint
    name="gripper-cp2"
    type="fixed">
    <origin
      xyz="-0.0766999999999999 -0.000318198051539618 -0.000318198051517046"
      rpy="-1.57079632679485 0 -1.57079632679489" />
    <parent
      link="roll_2_link" />
    <child
      link="gripper-cp2" />
    <axis
      xyz="0 0 0" />
  </joint>
  <link
    name="nailring2-cp1">
    <inertial>
      <origin
        xyz="0.000495209639943872 -2.15213011231508E-07 -0.0050022553385601"
        rpy="0 0 0" />
      <mass
        value="0.00888435164177013" />
      <inertia
        ixx="1.85848970375132E-06"
        ixy="4.08320407075244E-11"
        ixz="9.14133574374455E-10"
        iyy="1.88948158451332E-06"
        iyz="-1.81576174187697E-12"
        izz="3.47494887160991E-06" />
    </inertial>
    <visual>
      <origin
        xyz="0 0 0"
        rpy="0 0 0" />
      <geometry>
        <mesh
          filename="package://griphis_xacro_stl/meshes/nailring2-cp1.STL" />
      </geometry>
      <material
        name="">
        <color
          rgba="1 1 1 1" />
      </material>
    </visual>
    <collision>
      <origin
        xyz="0 0 0"
        rpy="0 0 0" />
      <geometry>
        <mesh
          filename="package://griphis_xacro_stl/meshes/nailring2-cp1.STL" />
      </geometry>
    </collision>
  </link>
  <joint
    name="nailring2-cp1"
    type="fixed">
    <origin
      xyz="-0.0285999465033246 0 0.0330000000000001"
      rpy="3.14159265358978 0 -3.14159238847494" />
    <parent
      link="roll_2_link" />
    <child
      link="nailring2-cp1" />
    <axis
      xyz="0 0 0" />
  </joint>
  <link
    name="nailring2-cp2">
    <inertial>
      <origin
        xyz="0.000495209639942984 -2.15213012050297E-07 -0.00500225533856015"
        rpy="0 0 0" />
      <mass
        value="0.00888435164177019" />
      <inertia
        ixx="1.85848970375134E-06"
        ixy="4.08320407074391E-11"
        ixz="9.14133574373919E-10"
        iyy="1.88948158451332E-06"
        iyz="-1.81576174216739E-12"
        izz="3.47494887160993E-06" />
    </inertial>
    <visual>
      <origin
        xyz="0 0 0"
        rpy="0 0 0" />
      <geometry>
        <mesh
          filename="package://griphis_xacro_stl/meshes/nailring2-cp2.STL" />
      </geometry>
      <material
        name="">
        <color
          rgba="1 1 1 1" />
      </material>
    </visual>
    <collision>
      <origin
        xyz="0 0 0"
        rpy="0 0 0" />
      <geometry>
        <mesh
          filename="package://griphis_xacro_stl/meshes/nailring2-cp2.STL" />
      </geometry>
    </collision>
  </link>
  <joint
    name="nailring2-cp2"
    type="fixed">
    <origin
      xyz="-0.0285999465033264 -0.0330000000000002 0"
      rpy="1.57079632679488 0 3.14159265358979" />
    <parent
      link="roll_2_link" />
    <child
      link="nailring2-cp2" />
    <axis
      xyz="0 0 0" />
  </joint>
  <link
    name="nailring2-cp3">
    <inertial>
      <origin
        xyz="-0.000495209639942817 2.15213012078053E-07 -0.00500225533856008"
        rpy="0 0 0" />
      <mass
        value="0.00888435164177013" />
      <inertia
        ixx="1.85848970375132E-06"
        ixy="4.08320407098813E-11"
        ixz="-9.14133574373917E-10"
        iyy="1.88948158451331E-06"
        iyz="1.81576173997682E-12"
        izz="3.4749488716099E-06" />
    </inertial>
    <visual>
      <origin
        xyz="0 0 0"
        rpy="0 0 0" />
      <geometry>
        <mesh
          filename="package://griphis_xacro_stl/meshes/nailring2-cp3.STL" />
      </geometry>
      <material
        name="">
        <color
          rgba="1 1 1 1" />
      </material>
    </visual>
    <collision>
      <origin
        xyz="0 0 0"
        rpy="0 0 0" />
      <geometry>
        <mesh
          filename="package://griphis_xacro_stl/meshes/nailring2-cp3.STL" />
      </geometry>
    </collision>
  </link>
  <joint
    name="nailring2-cp3"
    type="fixed">
    <origin
      xyz="-0.0284000534966716 0 -0.0330000000000008"
      rpy="0 0 3.14159238847493" />
    <parent
      link="roll_2_link" />
    <child
      link="nailring2-cp3" />
    <axis
      xyz="0 0 0" />
  </joint>
  <link
    name="nailring2-cp4">
    <inertial>
      <origin
        xyz="-0.000495209639943039 2.15213012015603E-07 -0.00500225533856"
        rpy="0 0 0" />
      <mass
        value="0.00888435164177014" />
      <inertia
        ixx="1.85848970375133E-06"
        ixy="4.08320407107192E-11"
        ixz="-9.14133574373996E-10"
        iyy="1.88948158451331E-06"
        iyz="1.81576174170535E-12"
        izz="3.47494887160991E-06" />
    </inertial>
    <visual>
      <origin
        xyz="0 0 0"
        rpy="0 0 0" />
      <geometry>
        <mesh
          filename="package://griphis_xacro_stl/meshes/nailring2-cp4.STL" />
      </geometry>
      <material
        name="">
        <color
          rgba="1 1 1 1" />
      </material>
    </visual>
    <collision>
      <origin
        xyz="0 0 0"
        rpy="0 0 0" />
      <geometry>
        <mesh
          filename="package://griphis_xacro_stl/meshes/nailring2-cp4.STL" />
      </geometry>
    </collision>
  </link>
  <joint
    name="nailring2-cp4"
    type="fixed">
    <origin
      xyz="-0.0286000534966706 0.0329999999999998 0"
      rpy="-1.57079632679492 0 3.14159265358979" />
    <parent
      link="roll_2_link" />
    <child
      link="nailring2-cp4" />
    <axis
      xyz="0 0 0" />
  </joint>
</robot>
